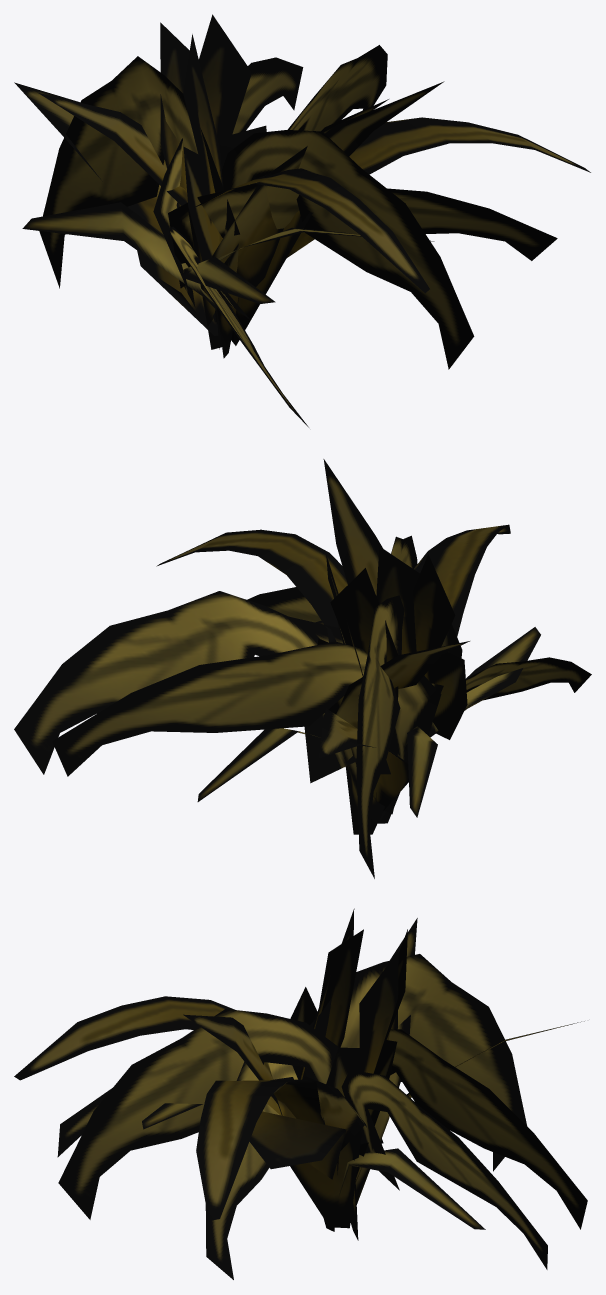
Rendered from SM_FlowersPlant_11.fbx.
3 views of the same model, one above another, from view 1: azimuth 30°, elevation 25°; view 2: azimuth 150°, elevation 25°; view 3: azimuth 270°, elevation 25° (orthographic). The views are drawn at different scales.
Parts seen in each view (by area): view 1: SM_FlowersPlant_11; view 2: SM_FlowersPlant_11; view 3: SM_FlowersPlant_11.
Boxes of the visible parts, x1,y1,x2,y2 form: SM_FlowersPlant_11: (14,14,590,427); SM_FlowersPlant_11: (14,459,591,878); SM_FlowersPlant_11: (14,908,587,1279).
Size of the model in its own units: 64.98 by 78.22 by 44.5.
1 material, 1 textured.
